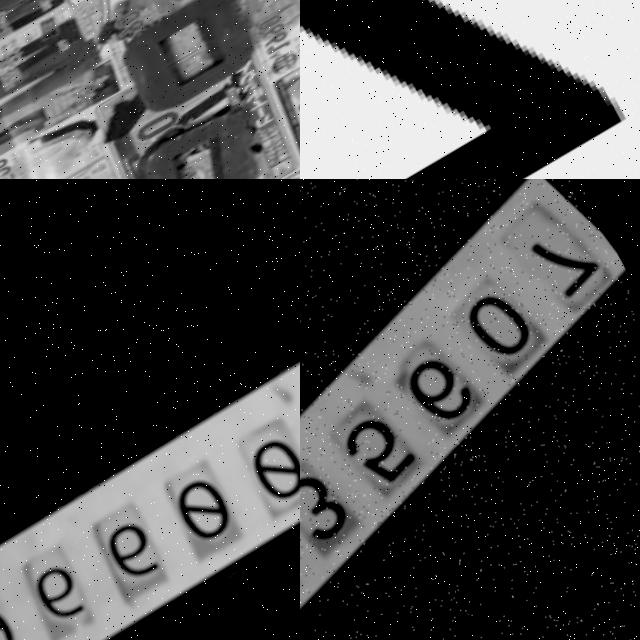0: (436, 262, 567, 391), (158, 458, 261, 564), (233, 418, 300, 521)
3: (300, 442, 389, 574)
5: (318, 385, 448, 513)
6: (378, 326, 508, 455), (90, 506, 185, 603), (19, 549, 112, 640)
7: (300, 0, 640, 179), (493, 194, 629, 330)
9: (0, 587, 46, 640)
O: (103, 0, 275, 124)
U: (111, 88, 293, 179)
